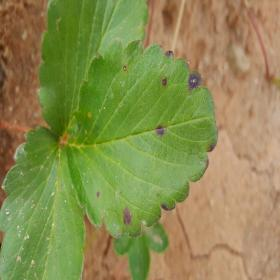Leaf Spot: (63, 38, 219, 239), (0, 126, 86, 279)
